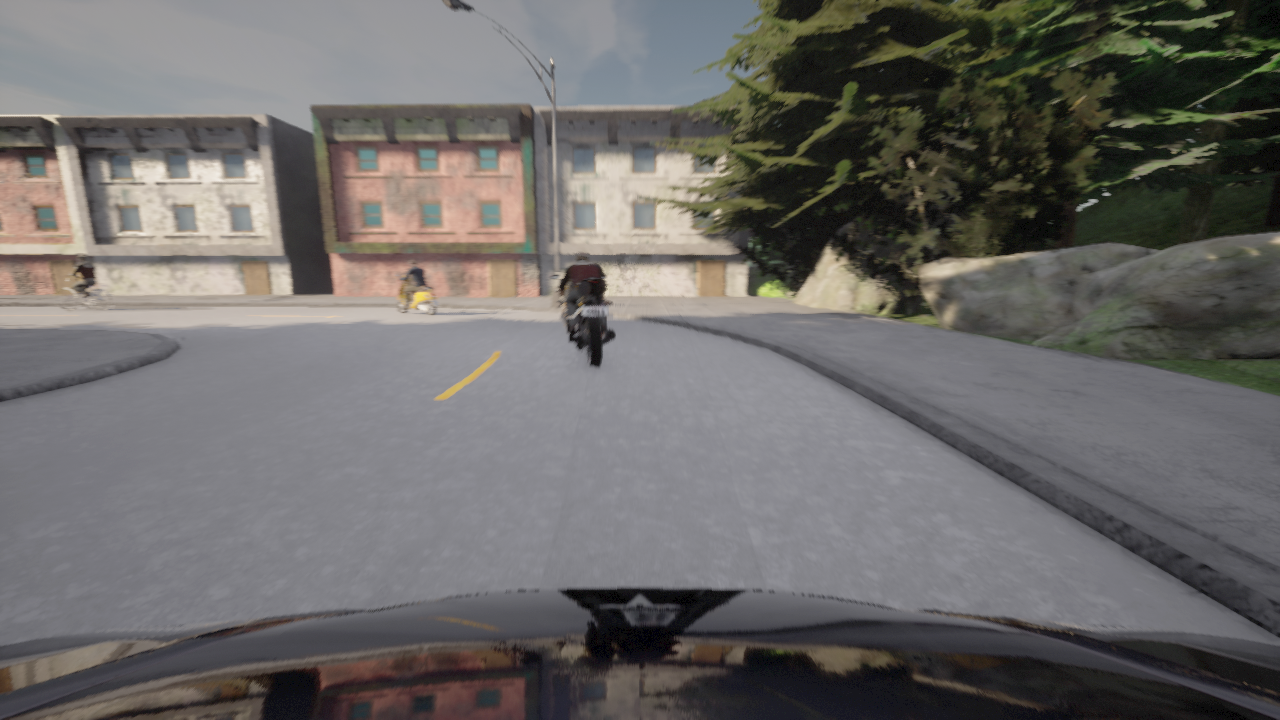cyclist: (0, 588, 1279, 719), (550, 273, 614, 366), (56, 275, 111, 310), (395, 273, 438, 315)
